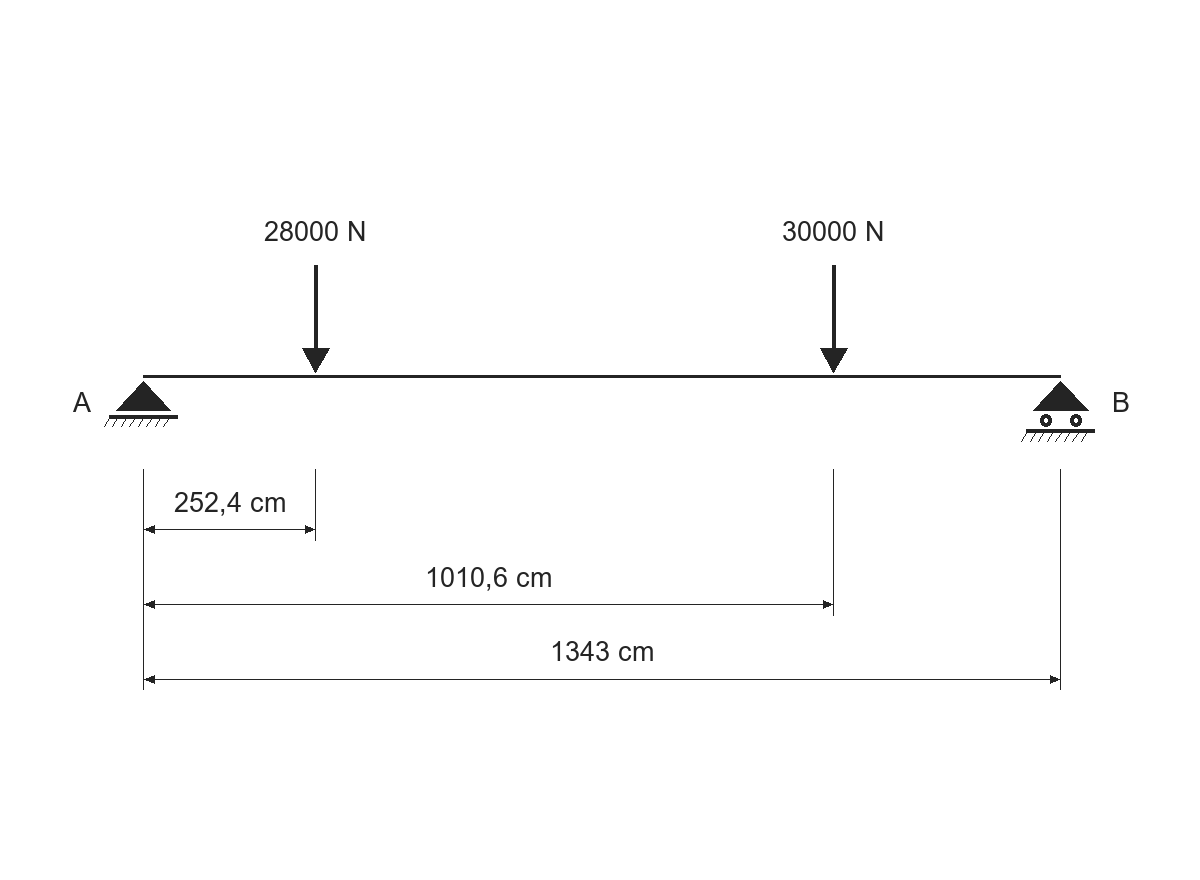pin_support: (104, 381, 178, 427)
point_load: (302, 265, 330, 373), (820, 265, 848, 373)
roller_support: (1021, 381, 1095, 442)
